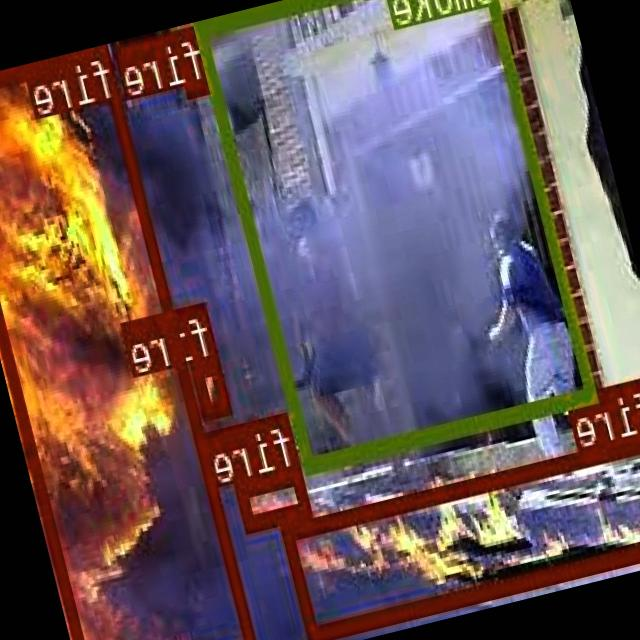fire: (0, 43, 259, 640), (281, 427, 640, 640), (236, 465, 314, 528), (172, 24, 214, 94), (192, 355, 233, 417)
smoke: (194, 0, 600, 469)
